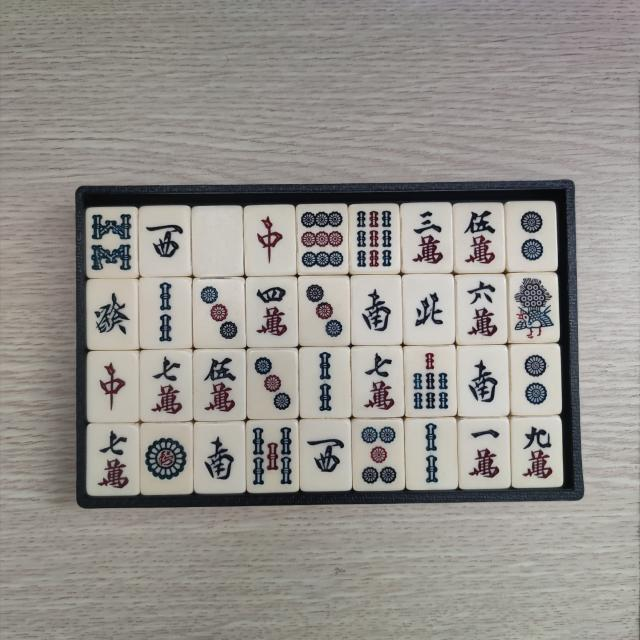hdg: (91, 284, 134, 345)
hdr: (92, 355, 134, 418), (250, 210, 292, 272)
hdw: (198, 212, 239, 272)
hwn: (408, 278, 451, 340)
hws: (462, 348, 503, 412), (354, 278, 396, 339), (200, 428, 240, 489)
hww: (144, 210, 188, 272), (304, 424, 347, 486)
sb1: (512, 277, 556, 342)
sb2: (410, 420, 453, 488), (304, 349, 348, 414), (145, 280, 189, 345)
sb5: (251, 424, 296, 488)
sb7: (410, 350, 454, 415)
sb8: (90, 211, 134, 275)
sb9: (353, 209, 395, 272)
sc1: (463, 422, 504, 484)
sc3: (407, 207, 448, 269)
sc4: (252, 282, 295, 344)
sc5: (457, 205, 499, 267), (199, 354, 241, 416)
sc6: (460, 277, 500, 340)
sc7: (92, 429, 134, 494), (357, 348, 399, 412), (146, 354, 188, 417)
sc9: (516, 422, 556, 484)
sd1: (145, 428, 190, 491)
sd2: (516, 348, 556, 411), (513, 204, 552, 266)
sd3: (197, 283, 242, 346), (252, 354, 296, 418), (303, 280, 347, 342)
sd5: (355, 421, 398, 486)
sd9: (297, 208, 343, 269)
